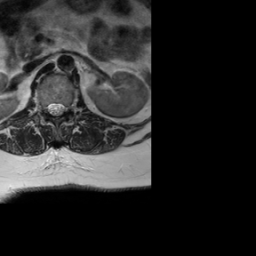CCS_normal: (53, 97, 59, 122)
LFS_stenosis: (64, 99, 71, 117)
LLS_normal: (59, 97, 64, 119)
RFS_normal: (41, 99, 47, 118)
RLS_normal: (47, 99, 53, 117)
